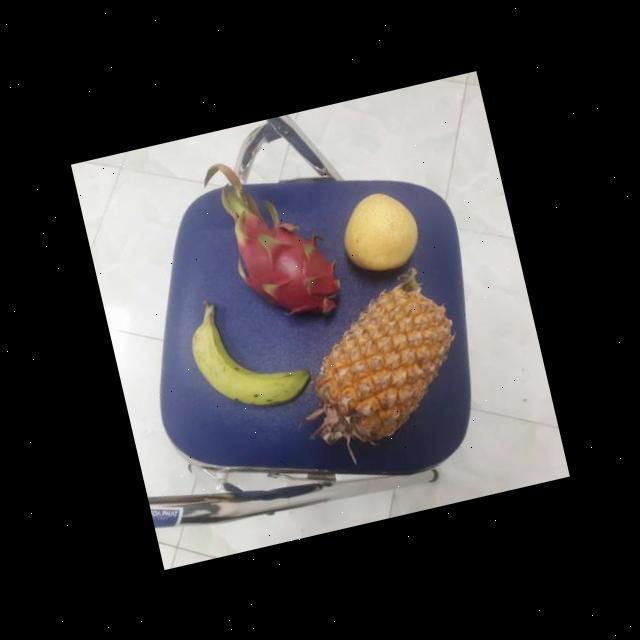banana: (180, 286, 312, 422)
pear: (331, 186, 426, 282)
pineapple: (288, 274, 467, 453)
pitaya: (230, 206, 346, 332)
